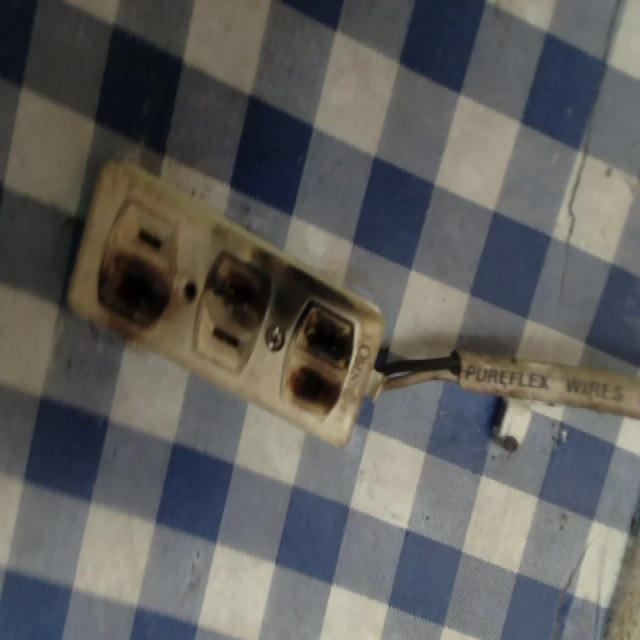-: (278, 289, 369, 427), (194, 228, 278, 333), (92, 246, 176, 342)
